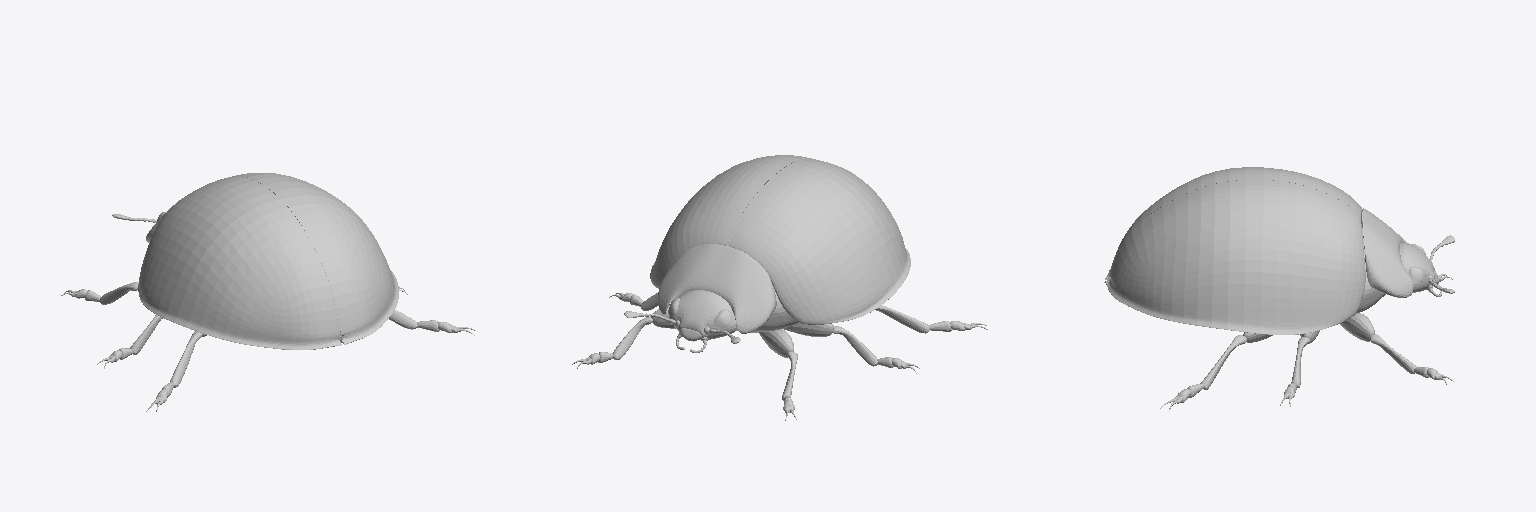
Rendered from ladybird.obj.
3 views of the same model, side by side, from view 1: azimuth 30°, elevation 25°; view 2: azimuth 150°, elevation 25°; view 3: azimuth 270°, elevation 25° (orthographic).
Bounding box in the file's own units: 839 × 371 × 773.